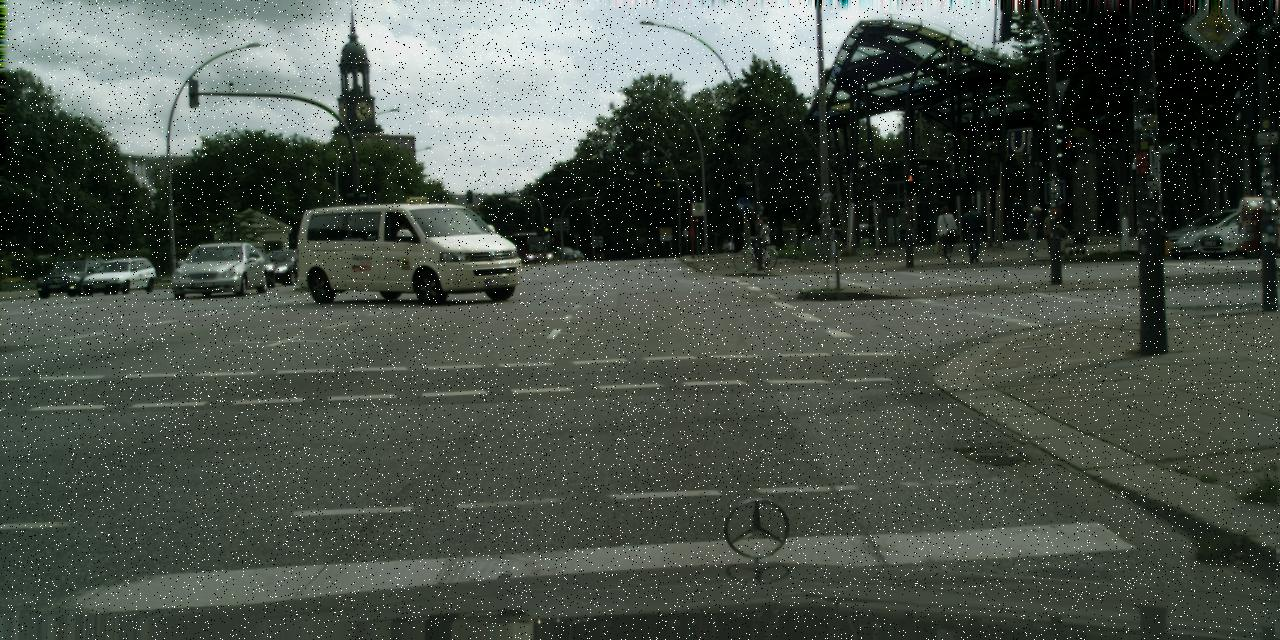ped: (960, 204, 984, 262), (934, 206, 958, 263), (1024, 205, 1044, 258), (752, 216, 772, 266), (1042, 209, 1060, 254), (1009, 197, 1026, 239), (722, 239, 728, 252), (596, 252, 605, 260)
